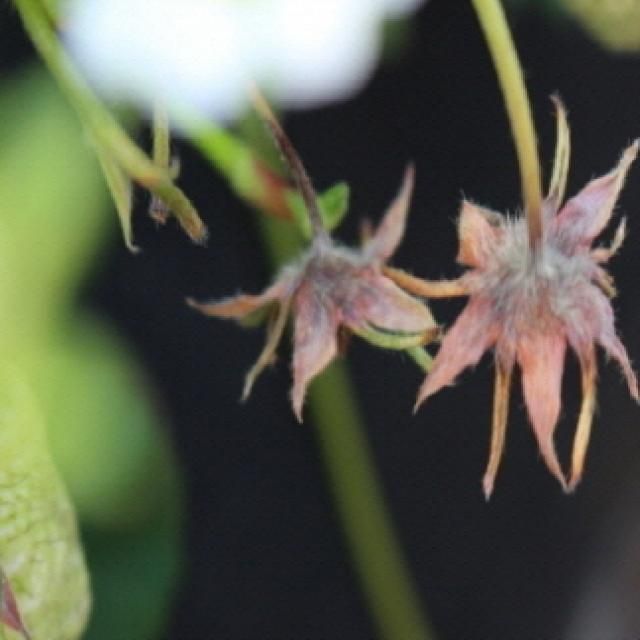Gray Mold: (380, 95, 640, 503), (186, 165, 447, 427)
